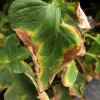Tomato leaf bacterial spot: (5, 1, 93, 94)
